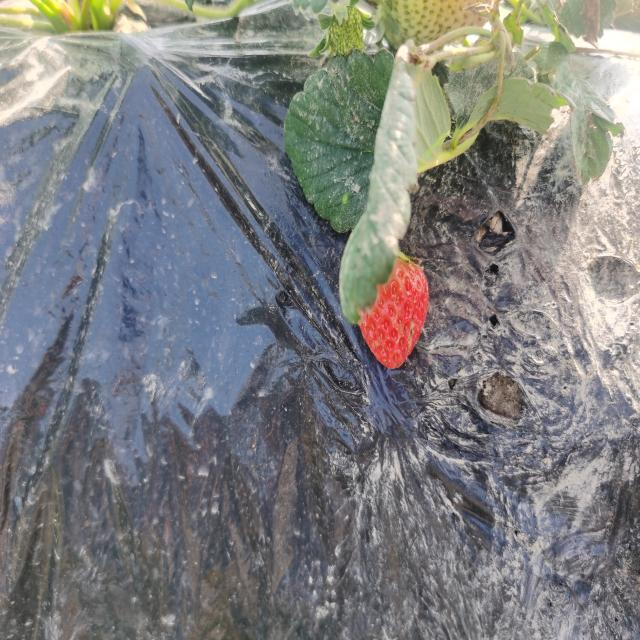strawberry: (360, 255, 429, 369)
